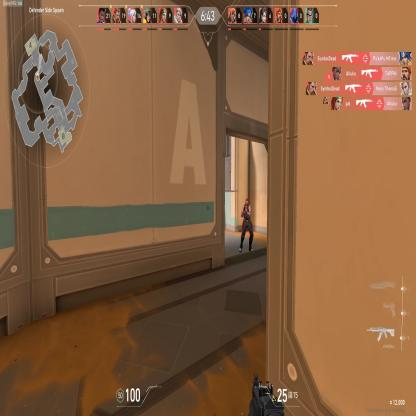enemy: (238, 197, 254, 253)
